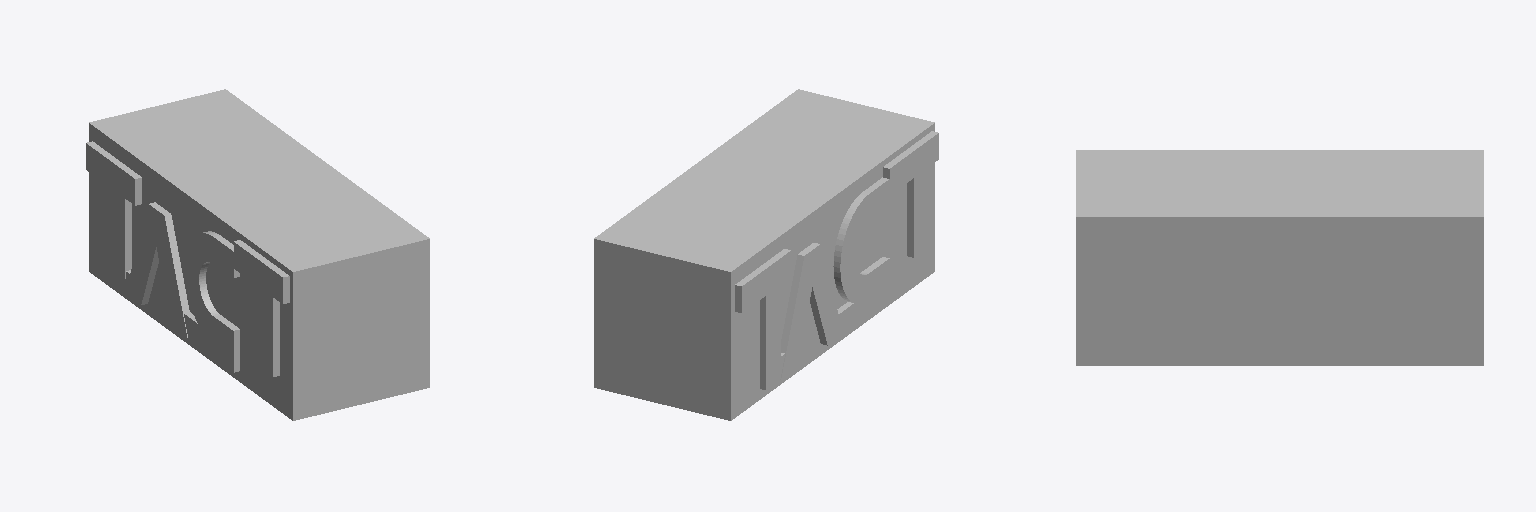
The model's file is tact_map.obj.
3 renders of one model, left to right at view 1: azimuth 30°, elevation 25°; view 2: azimuth 150°, elevation 25°; view 3: azimuth 270°, elevation 25°, orthographic.
Visible parts, largest first — view 1: Cube_Cube.009, secondA_Cube.005, ThirdC_Cube.003, LastT_Cube.002, FirstT_Cube.001, lowPath_Cube.007; view 2: Cube_Cube.009, secondA_Cube.005, ThirdC_Cube.003, FirstT_Cube.001, LastT_Cube.002, lowPath_Cube.007; view 3: Cube_Cube.009.
Part boxes in pixels (x1,y1,x2,y2): Cube_Cube.009: (89,89,429,420); secondA_Cube.005: (125,202,189,338); ThirdC_Cube.003: (184,231,239,357); LastT_Cube.002: (234,240,289,376); FirstT_Cube.001: (86,141,141,278); lowPath_Cube.007: (111,269,239,372); Cube_Cube.009: (594,89,934,420); secondA_Cube.005: (780,243,843,379); ThirdC_Cube.003: (833,177,889,303); FirstT_Cube.001: (735,249,790,375); LastT_Cube.002: (883,131,938,257); lowPath_Cube.007: (760,286,888,389); Cube_Cube.009: (1076,150,1483,365).
Bounding box in the file's own units: 2.1 × 2.08 × 5.16.